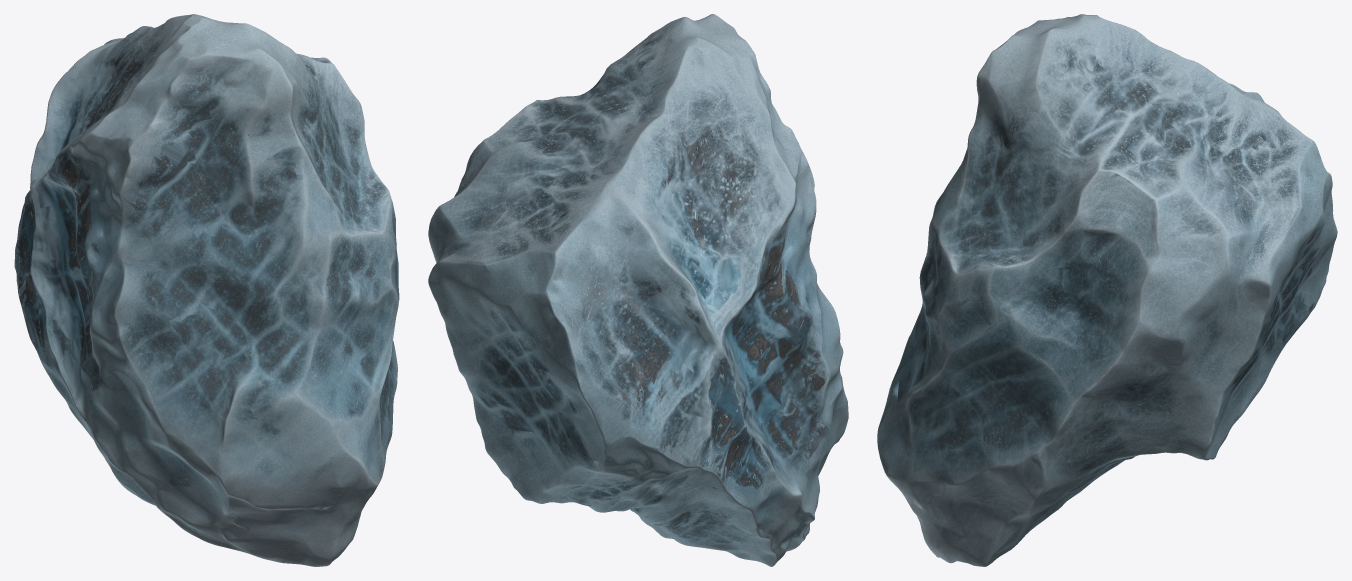
Rendered from IceOre.glb.
The picture shows the model from 3 angles, left to right: view 1: azimuth 30°, elevation 25°; view 2: azimuth 150°, elevation 25°; view 3: azimuth 270°, elevation 25°; orthographic projection. The views are drawn at different scales.
Parts seen in each view (by area): view 1: IceOre.001; view 2: IceOre.001; view 3: IceOre.001.
Part boxes in pixels (<box>): IceOre.001: <box>14,14,399,566</box>; IceOre.001: <box>428,14,848,566</box>; IceOre.001: <box>877,14,1337,566</box>.
Size of the model in its own units: 0.1117 by 0.1766 by 0.143.
1 material, 1 textured.
